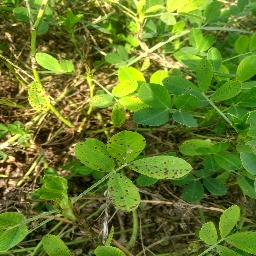GroundNut_Leaf: (75, 138, 115, 173), (131, 157, 193, 179), (105, 173, 140, 211), (106, 130, 145, 161), (1, 211, 25, 248), (183, 27, 212, 55), (140, 82, 171, 108), (219, 204, 242, 239), (26, 80, 51, 111), (177, 140, 231, 154), (211, 79, 243, 102), (41, 233, 69, 256), (214, 150, 242, 173), (196, 58, 211, 94), (237, 54, 255, 81), (36, 52, 61, 70), (112, 80, 136, 97), (112, 102, 126, 128)
